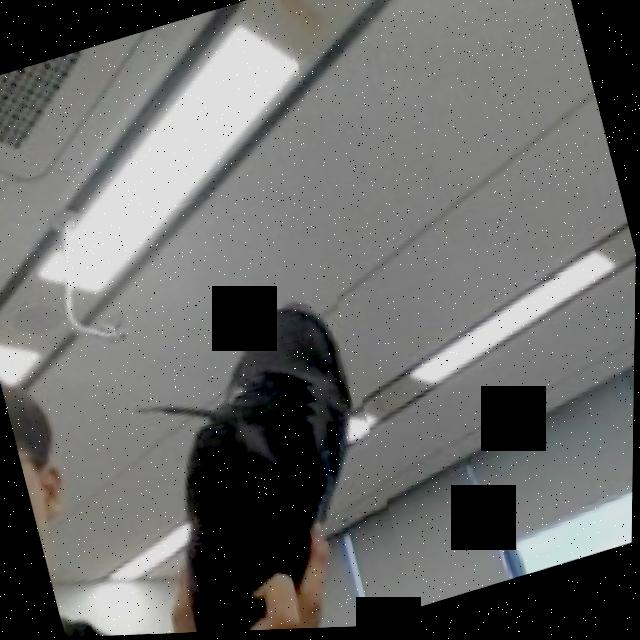shoe: (121, 279, 421, 636)
